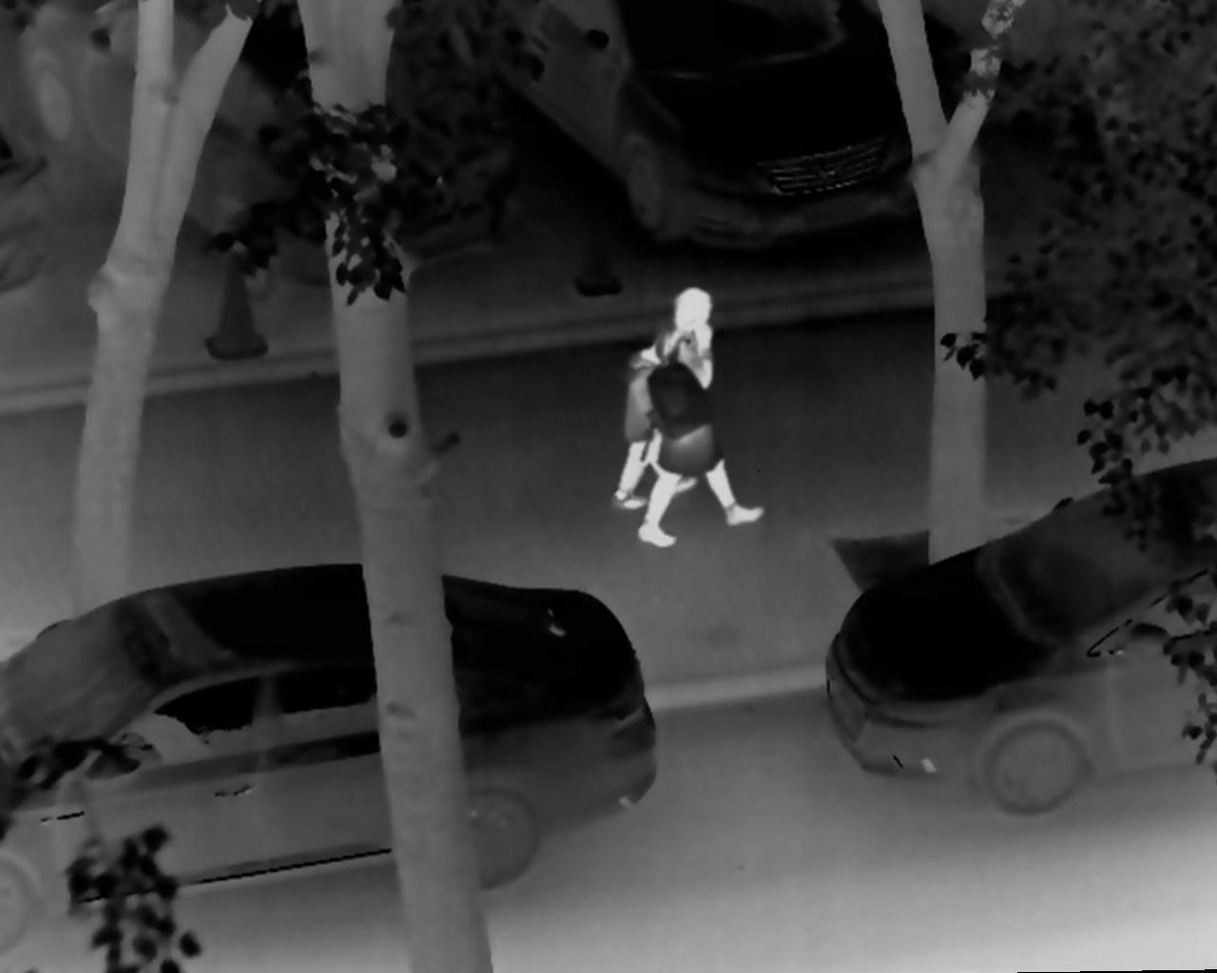person: (636, 288, 764, 553), (614, 330, 693, 514)
